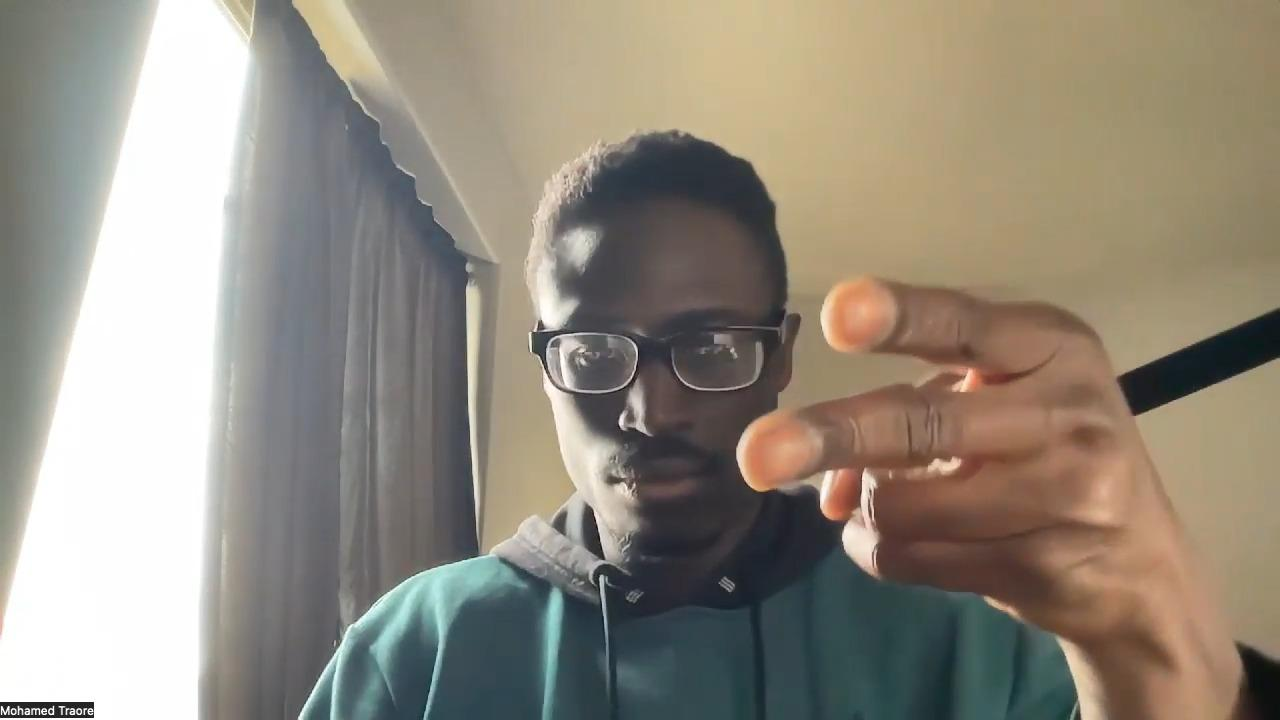Scissors: (737, 277, 1185, 639)
